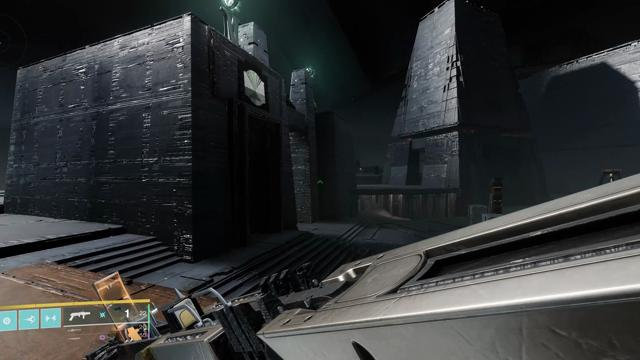commune: (244, 70, 265, 106)
